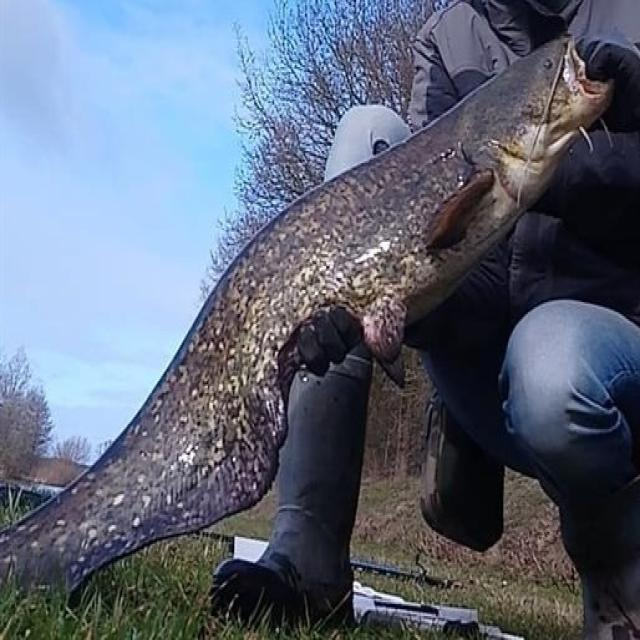Catfish: (54, 45, 606, 583)
